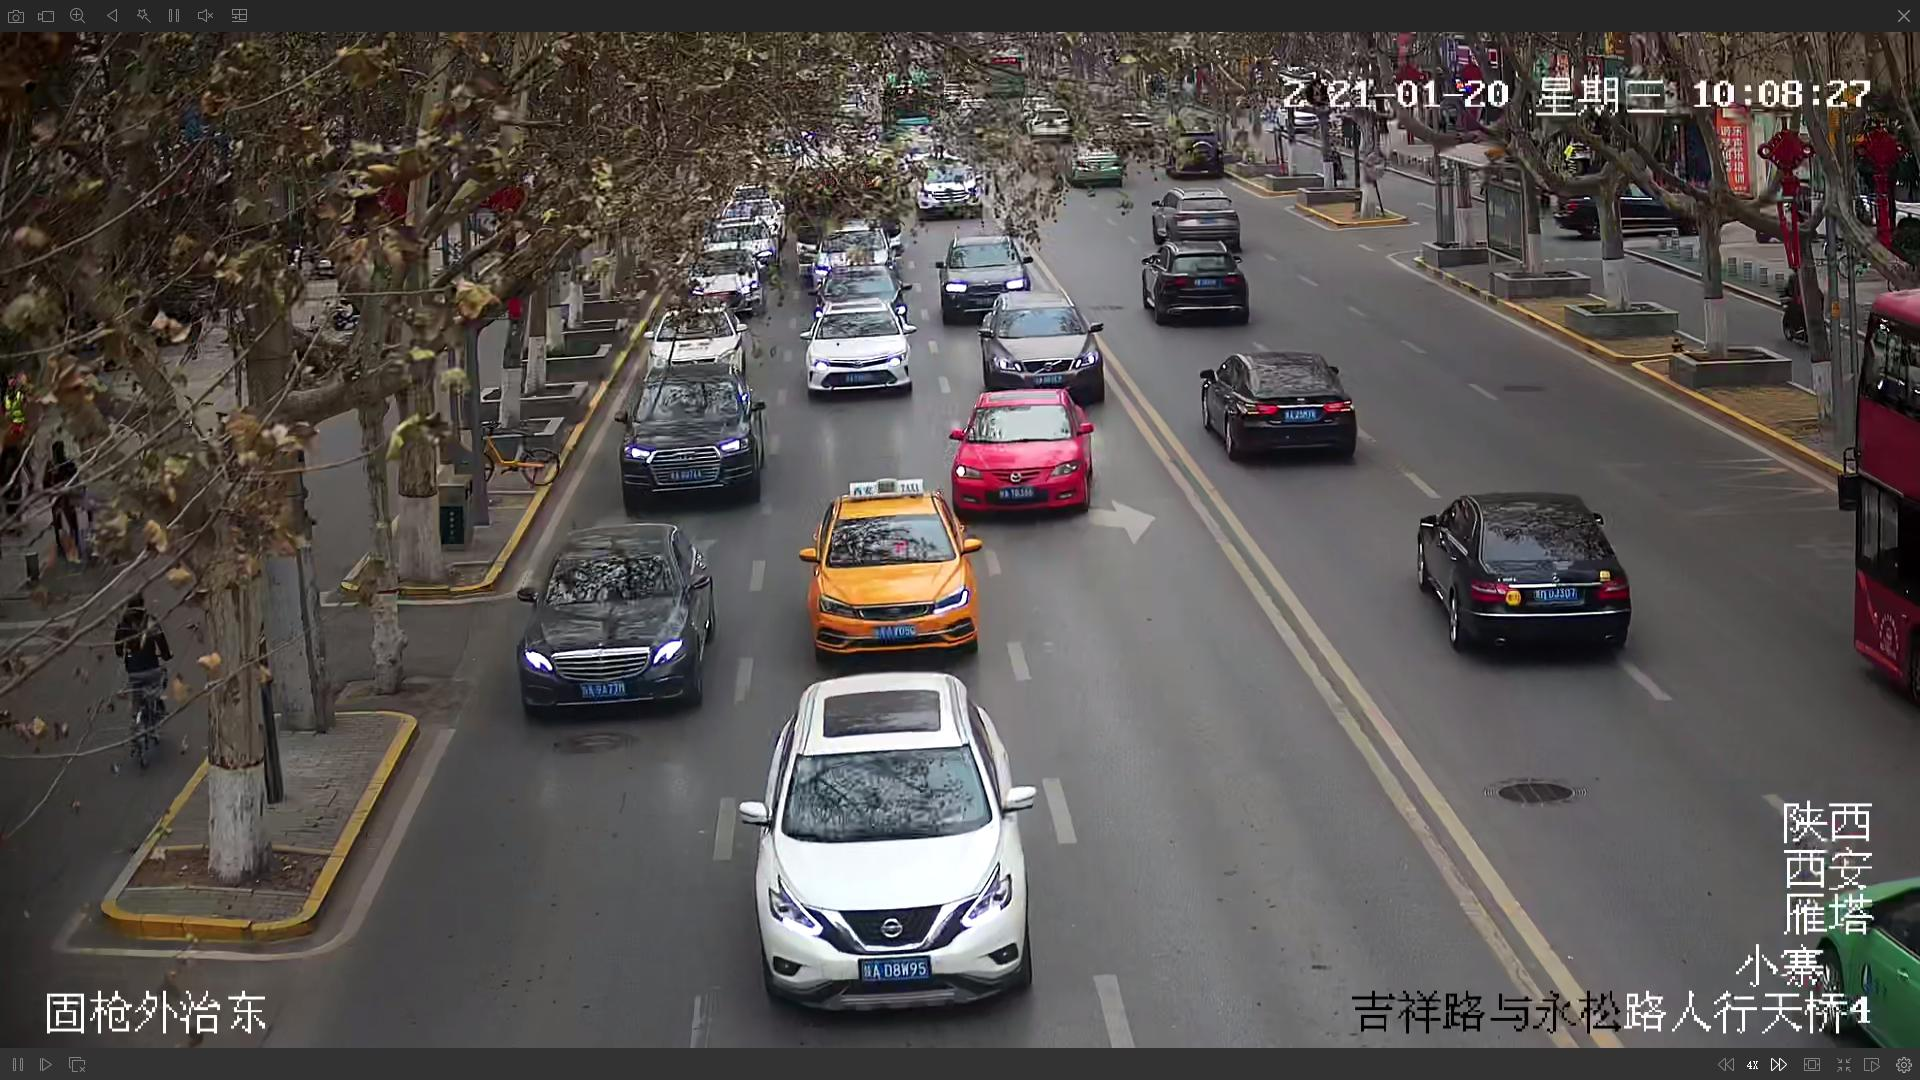black: (513, 525, 713, 727), (620, 372, 762, 500)
orange: (796, 487, 994, 646)
red: (949, 378, 1091, 520)
white: (749, 674, 1040, 998)
